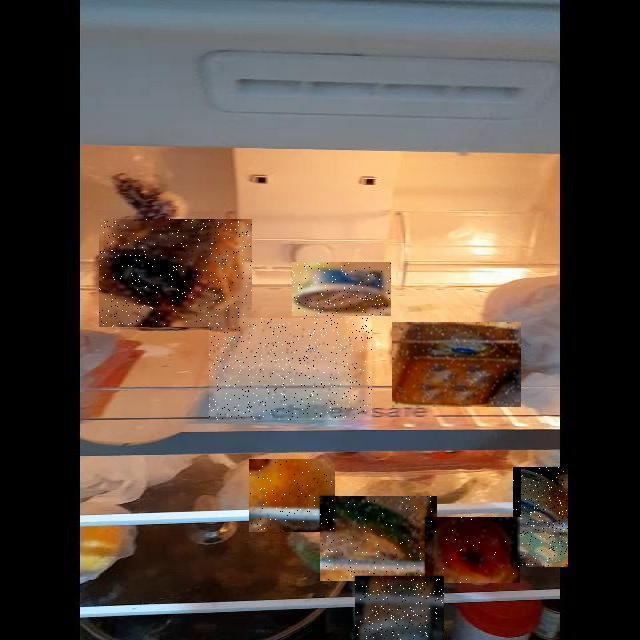Bread: (99, 219, 252, 327)
Butter: (392, 322, 521, 407)
Cheese: (209, 318, 372, 420)
Chillies: (320, 496, 437, 581)
Lemon: (249, 459, 335, 532)
Milk: (355, 576, 444, 640)
Tomato Paste: (426, 517, 522, 583)
Yoghurt: (513, 467, 568, 567), (292, 262, 391, 316)
